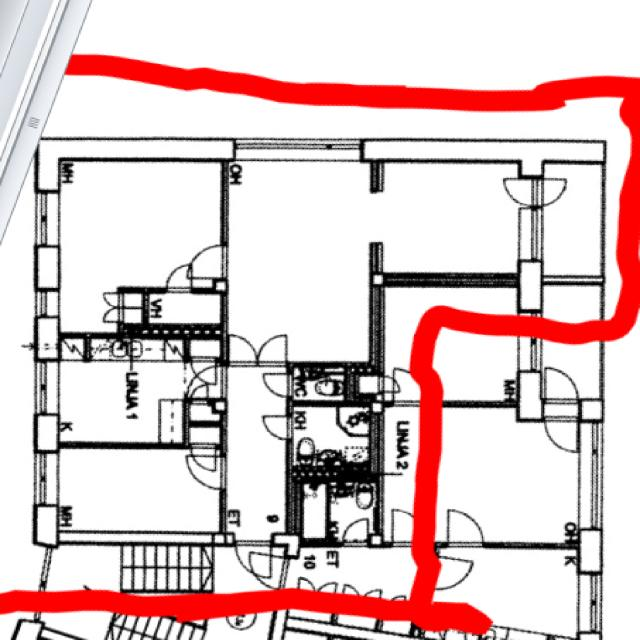door: (442, 506, 490, 550), (236, 541, 279, 588), (433, 551, 478, 594), (185, 240, 228, 278), (540, 364, 581, 403), (253, 330, 293, 367), (543, 418, 580, 453), (186, 455, 225, 488), (501, 176, 538, 207), (225, 332, 258, 365), (536, 176, 568, 207), (339, 516, 372, 546), (258, 412, 293, 440), (163, 261, 193, 293), (260, 370, 293, 399), (190, 360, 220, 387), (189, 448, 219, 474), (188, 383, 214, 402), (100, 290, 123, 309), (100, 306, 122, 324)
window: (574, 430, 608, 528), (32, 187, 62, 249)
zone: (50, 161, 225, 291), (372, 286, 541, 402), (367, 162, 533, 280), (48, 441, 224, 540), (415, 546, 590, 640), (50, 359, 186, 446), (221, 374, 290, 542), (538, 162, 604, 282), (104, 598, 284, 639), (288, 402, 374, 471), (144, 290, 223, 332), (576, 429, 607, 531), (292, 468, 330, 544), (120, 290, 144, 328), (86, 337, 125, 360), (60, 336, 86, 361)
